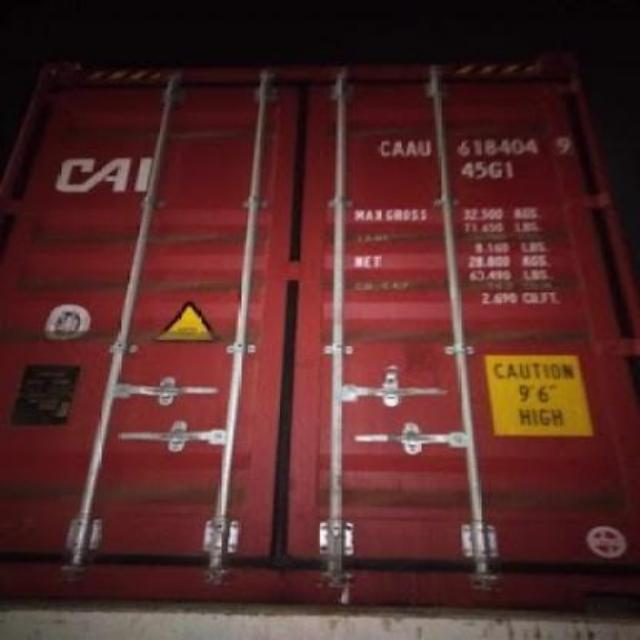0: (510, 138, 526, 156)
1: (472, 136, 484, 156)
4: (498, 136, 510, 156), (528, 136, 538, 154)
6: (458, 142, 470, 154)
8: (484, 138, 498, 156)
9: (556, 136, 568, 154)
A: (404, 136, 418, 158), (391, 138, 404, 158)
C: (376, 139, 392, 159)
U: (418, 139, 432, 159)
